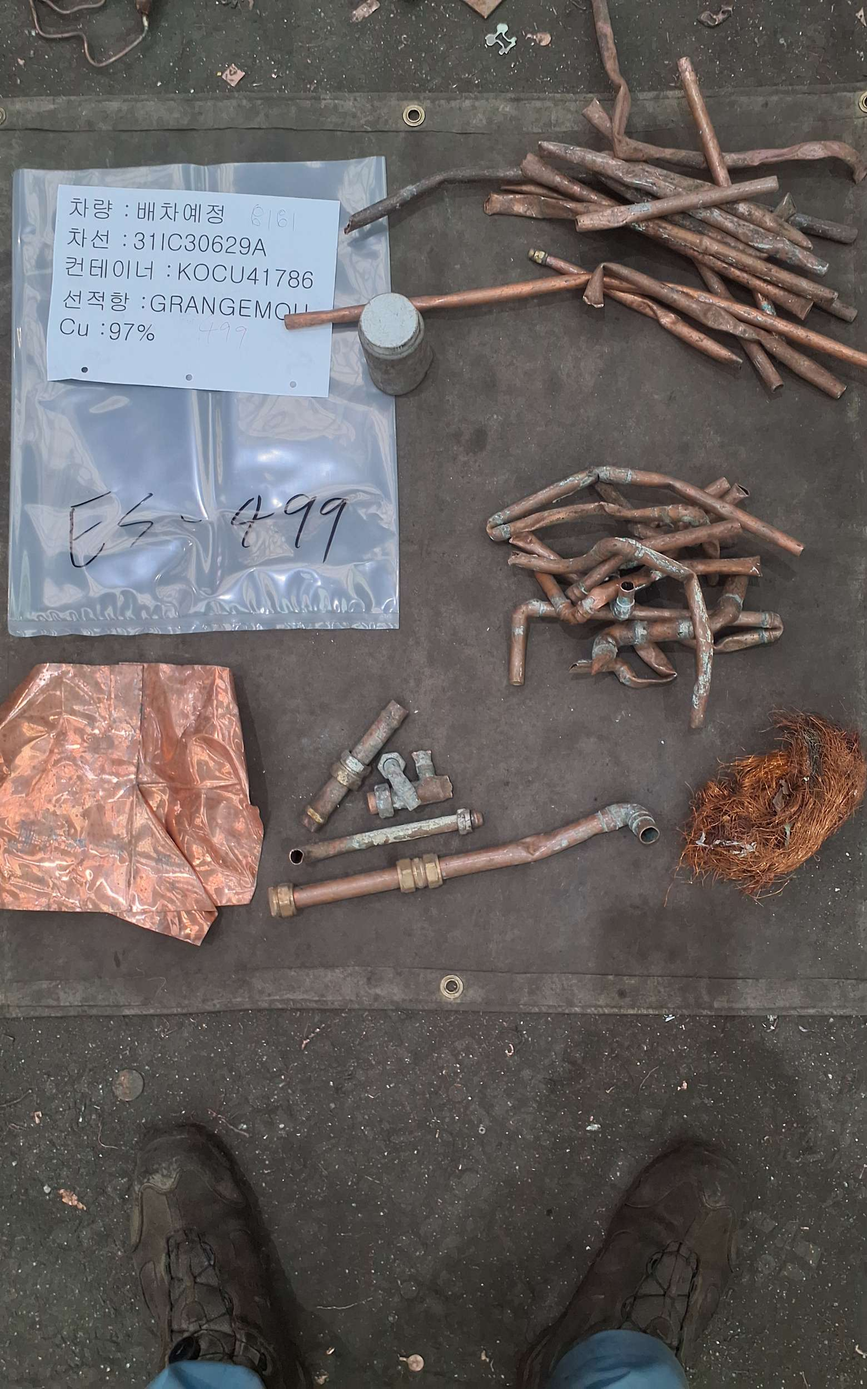Brass_Attach_70: (290, 809, 488, 865)
Clean_Copper_Tubes_98: (576, 175, 779, 233)
Thin_Enamled_Wire_89: (682, 721, 865, 894)
